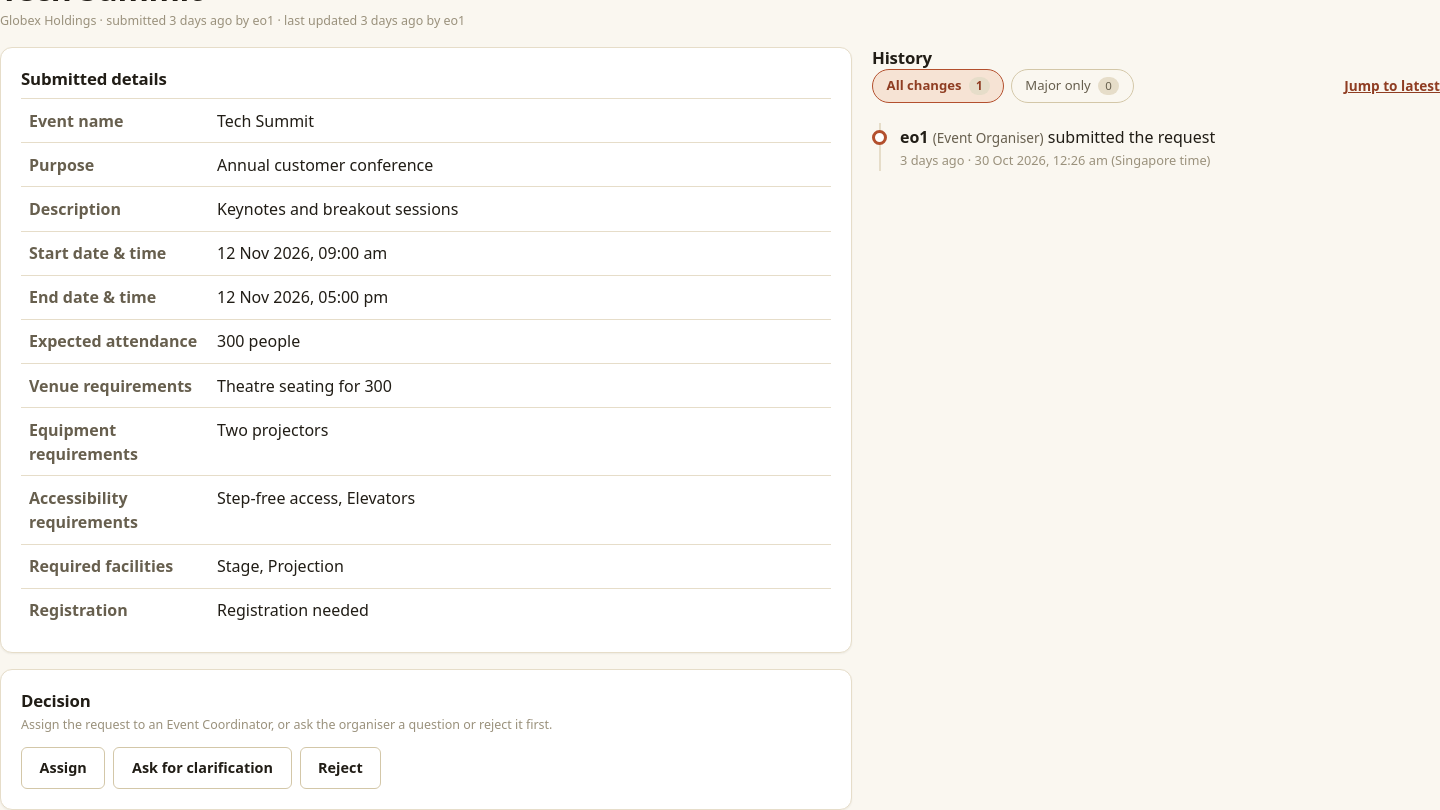
it: IncomingRequestReviewPage (ECL-C3 Lead review, ELC-C6 assignment, ELC-C5 reassignment) › assigning sends the chosen coordinator, then returns to the queue with a confirmation naming them
(page scrolled)
Click the button "Assign".
click(63, 768)  # box [21,746,105,789]
(page scrolled)
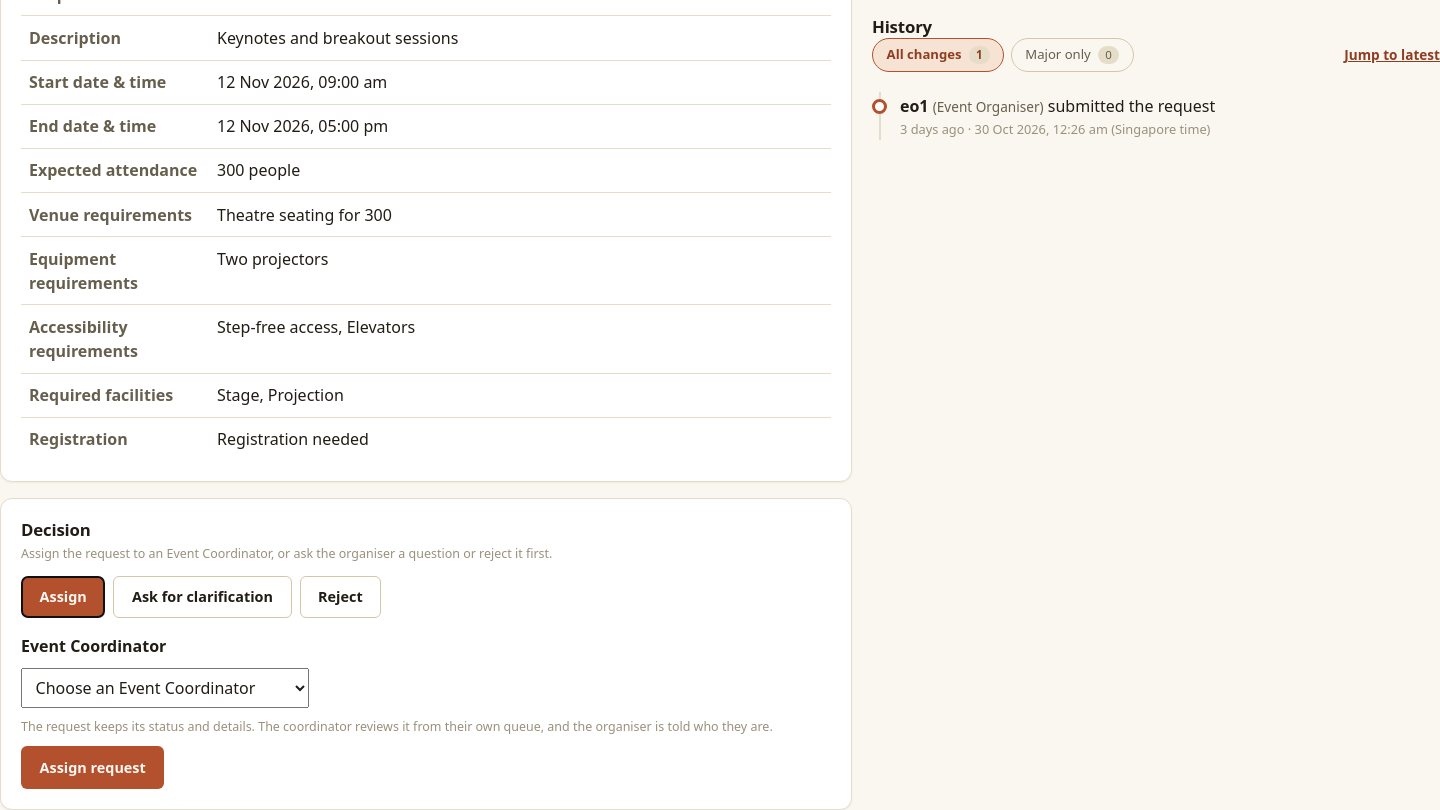
Select "ec2" in the dropdown labelled "Event Coordinator" at (165, 688), box [21,668,309,708]
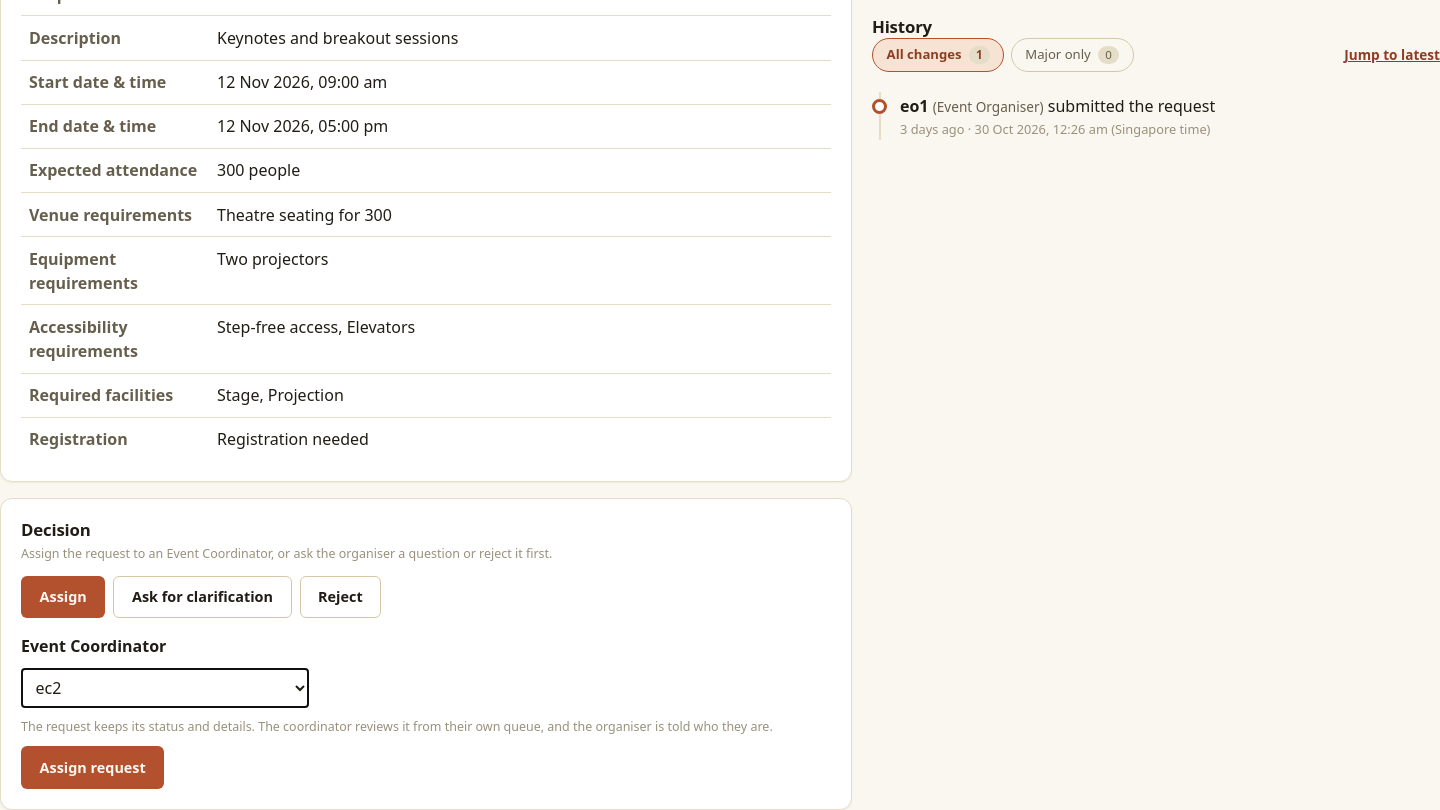
Click the button "Assign request".
click(93, 768)  # box [21,746,164,789]
(page scrolled)
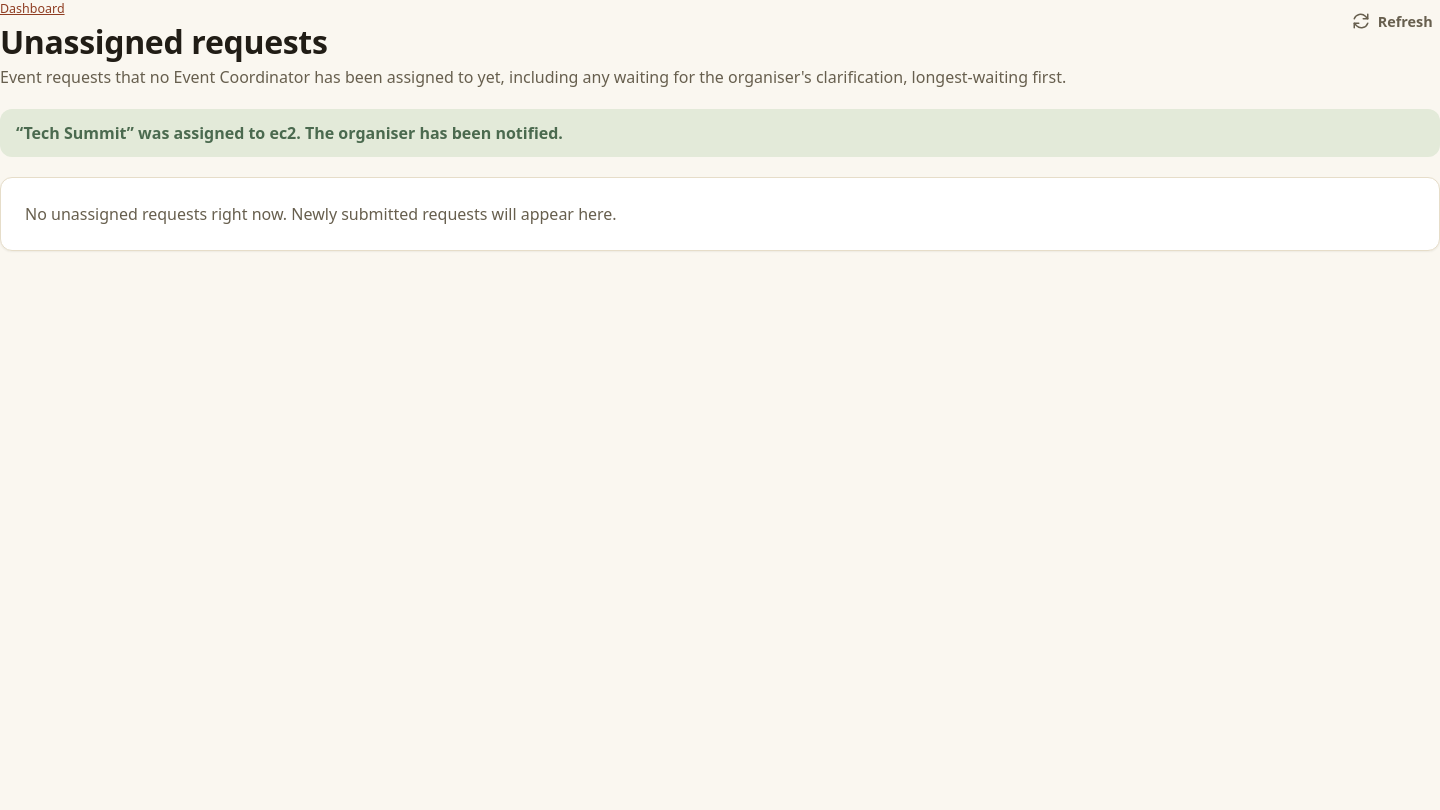
Expected: the heading "Unassigned requests" is shown, [0,20,328,63]
Expected: the text "“Tech Summit” was assigned to ec2. The organiser has been notified." is shown, [0,109,1439,157]
